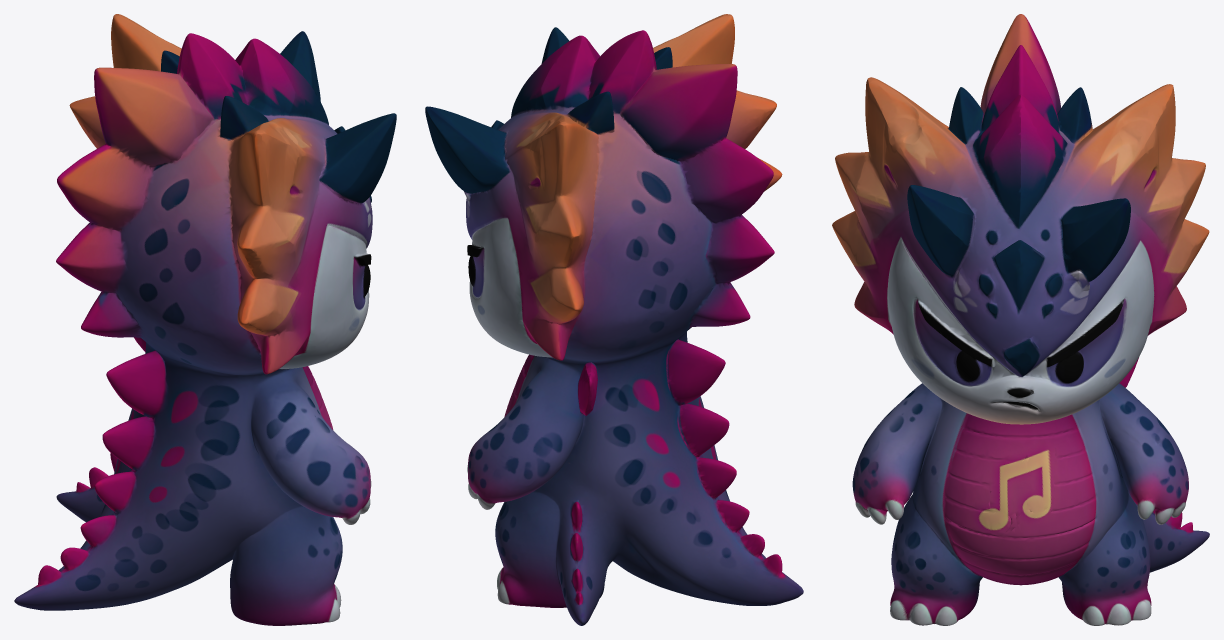
File: chora_tripo_v31.glb
3 views of the same model, side by side, from view 1: azimuth 30°, elevation 25°; view 2: azimuth 150°, elevation 25°; view 3: azimuth 270°, elevation 25° (orthographic). The views are drawn at different scales.
Visible parts, largest first — view 1: tripo_node_b451bc01-b5ad-4e23-a161-ca1bfe5ce32e; view 2: tripo_node_b451bc01-b5ad-4e23-a161-ca1bfe5ce32e; view 3: tripo_node_b451bc01-b5ad-4e23-a161-ca1bfe5ce32e.
Part boxes in pixels (x1,y1,x2,y2): tripo_node_b451bc01-b5ad-4e23-a161-ca1bfe5ce32e: (14, 14, 396, 625); tripo_node_b451bc01-b5ad-4e23-a161-ca1bfe5ce32e: (425, 14, 803, 625); tripo_node_b451bc01-b5ad-4e23-a161-ca1bfe5ce32e: (832, 14, 1209, 625).
Size of the model in its own units: 0.1301 by 0.2 by 0.1281.
1 material, 1 textured.
